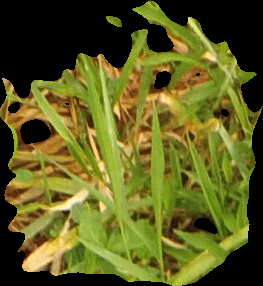grass: (1, 1, 262, 284)
